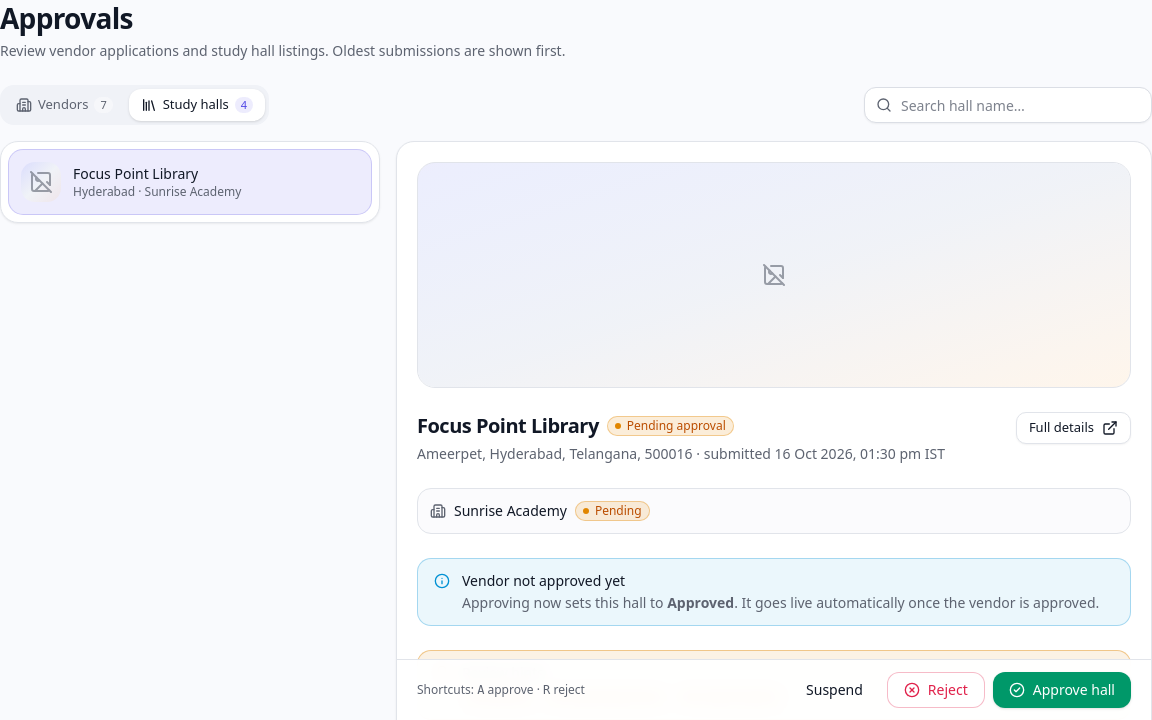
Test: Study hall moderation › approves a pending hall and explains the vendor dependency
Check: the heading "Focus Point Library" is shown, box [417,412,599,440]
Check: the text "Vendor not approved yet" is shown, box [462,571,625,590]
Step 1. Click the button "Approve hall" → point(1062, 690), box [993,672,1131,708]
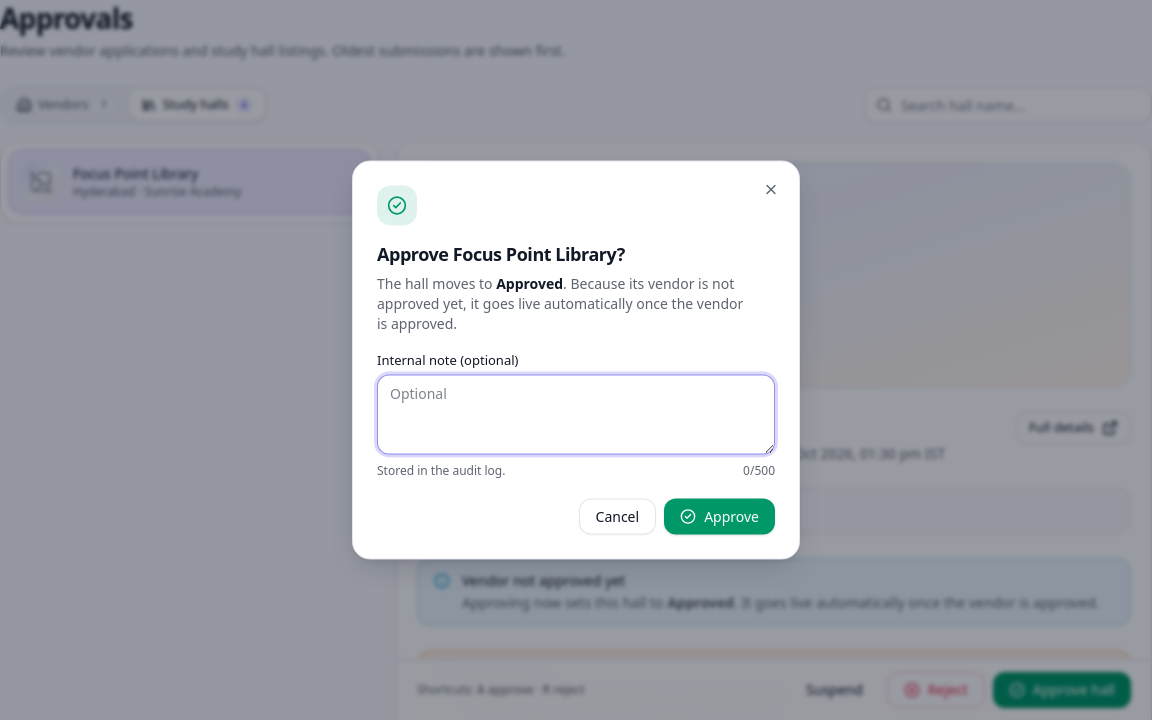
Check: the dialog shows "goes live automatically once the vendor is approved", box [377,274,743,332]
Step 2. Click the button "Approve" → point(720, 516), box [664,498,775,534]
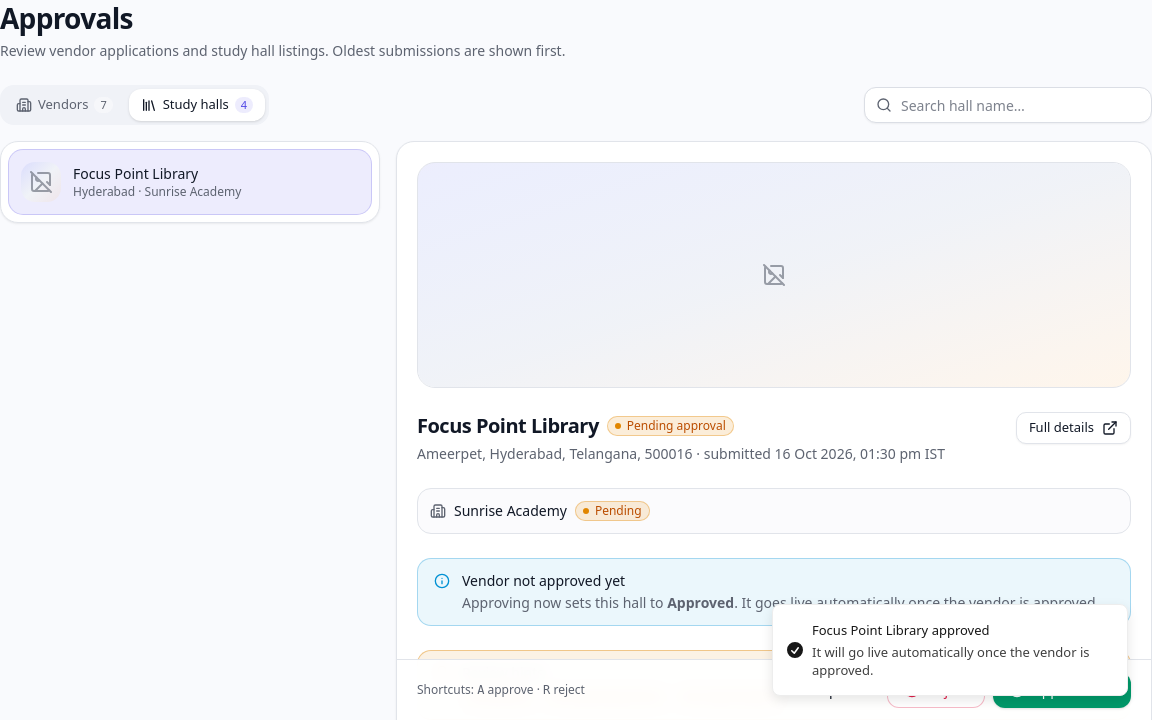
Check: the text "Focus Point Library approved" is shown, box [812,621,990,639]
